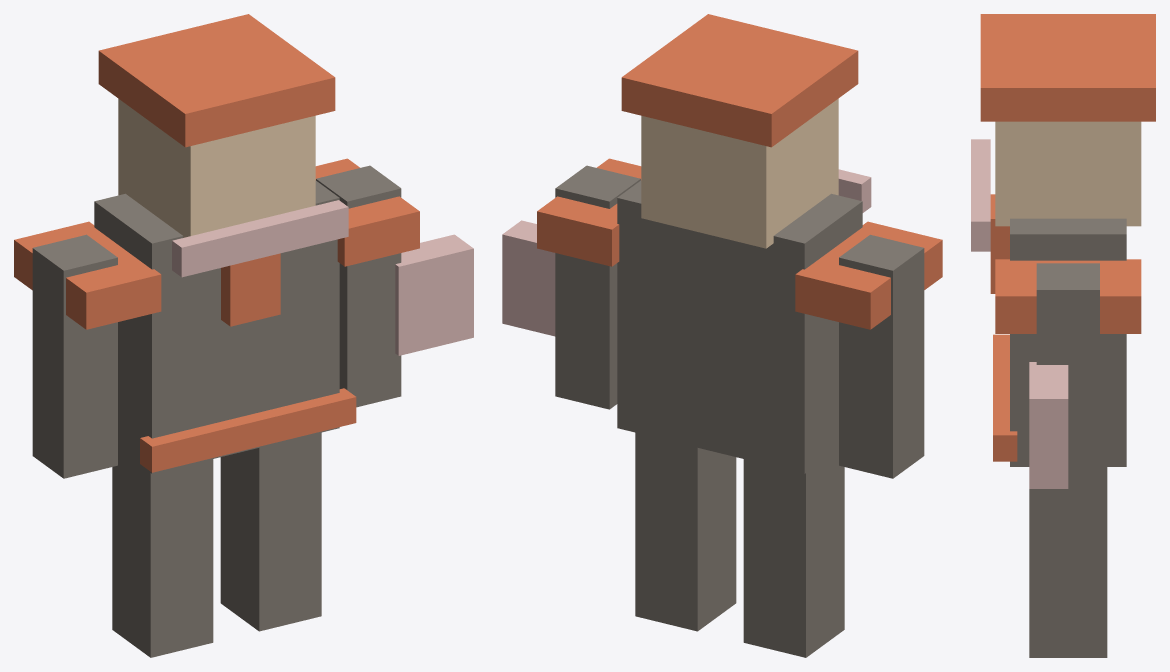
Rendered from 08_draven_dubwater_warden_from_firewheel.glb.
The picture shows the model from 3 angles, left to right: view 1: azimuth 30°, elevation 25°; view 2: azimuth 150°, elevation 25°; view 3: azimuth 270°, elevation 25°; orthographic projection.
Visible parts, largest first — view 1: Draven Dubwater, Warden from Firewheel; view 2: Draven Dubwater, Warden from Firewheel; view 3: Draven Dubwater, Warden from Firewheel.
Boxes of the visible parts, x1,y1,x2,y2 form: Draven Dubwater, Warden from Firewheel: (14,14,473,657); Draven Dubwater, Warden from Firewheel: (502,14,942,657); Draven Dubwater, Warden from Firewheel: (971,14,1155,657).
Bounding box in the file's own units: 1.07 × 1.4 × 0.4155.
